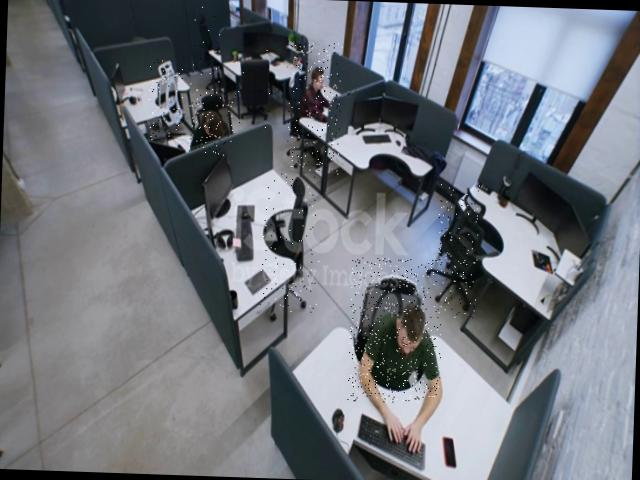empty chair: (260, 170, 322, 316), (436, 184, 480, 319), (232, 46, 272, 128), (148, 56, 185, 143), (188, 2, 222, 85)
occupiedchair: (348, 257, 444, 404), (286, 42, 342, 177), (186, 88, 234, 156)
